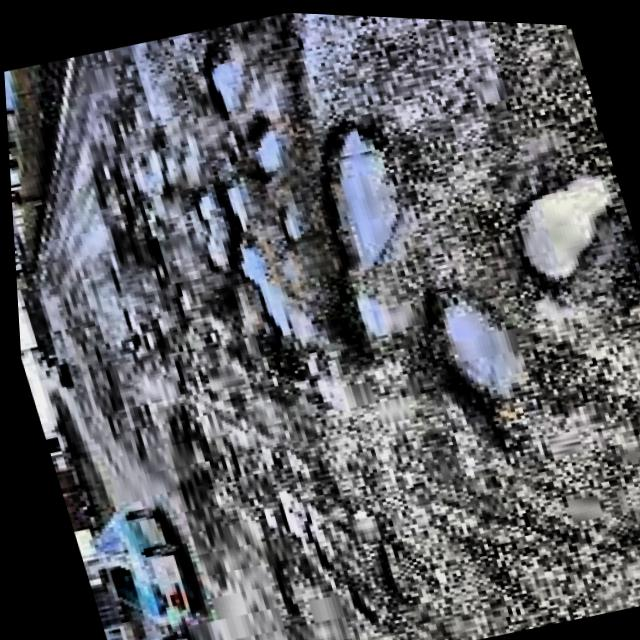pothole: (421, 293, 519, 447), (517, 176, 607, 274), (332, 126, 394, 265), (237, 238, 304, 339), (226, 115, 279, 233), (204, 59, 241, 115), (279, 210, 299, 239)
